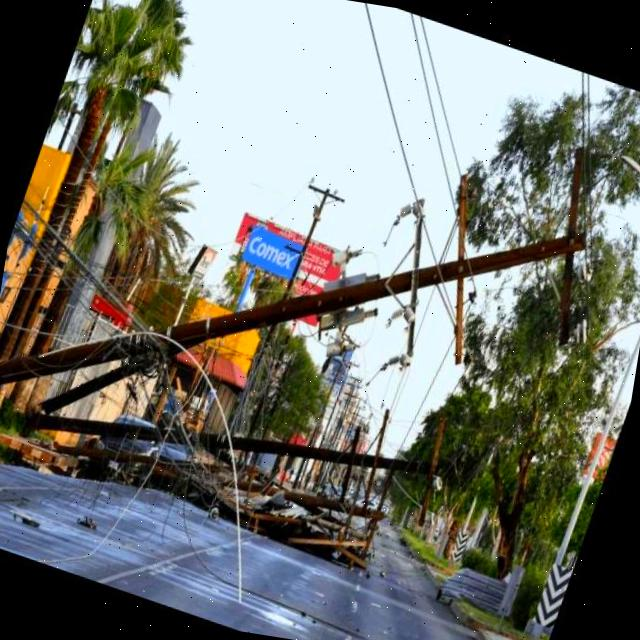Broken Pole: (0, 146, 603, 381), (29, 409, 445, 522)
